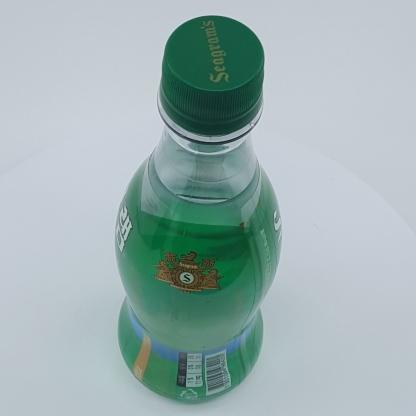--------350ML: (114, 15, 284, 400)
